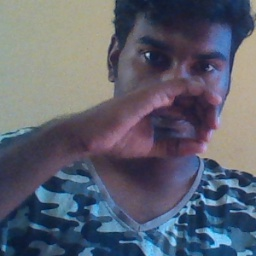O: (76, 70, 225, 164)
